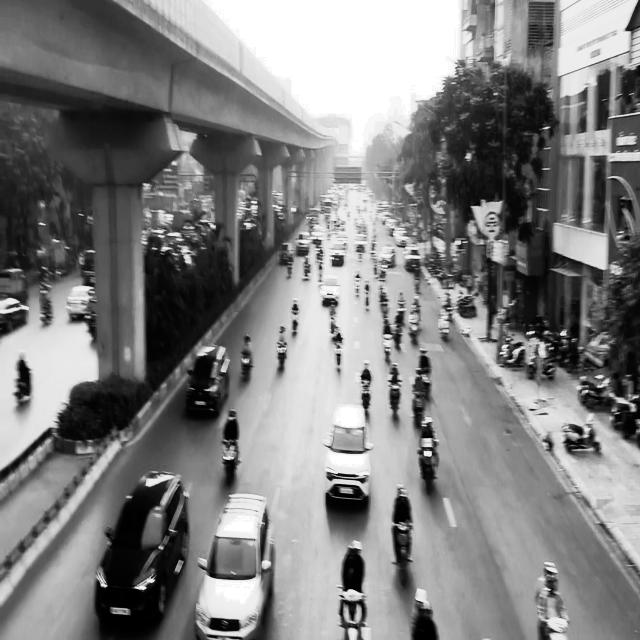car: (94, 469, 190, 628), (194, 492, 275, 640), (322, 403, 373, 507), (185, 344, 231, 416)
motorbike: (336, 584, 368, 639), (392, 520, 414, 587), (417, 437, 440, 494), (221, 438, 240, 486), (240, 353, 253, 382), (277, 341, 288, 370)
